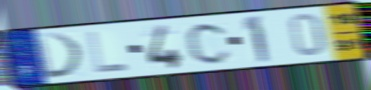0: (287, 11, 329, 59)
1: (241, 15, 272, 64)
4: (146, 22, 184, 70)
C: (184, 21, 233, 66)
D: (33, 32, 86, 81)
L: (86, 29, 131, 75)
